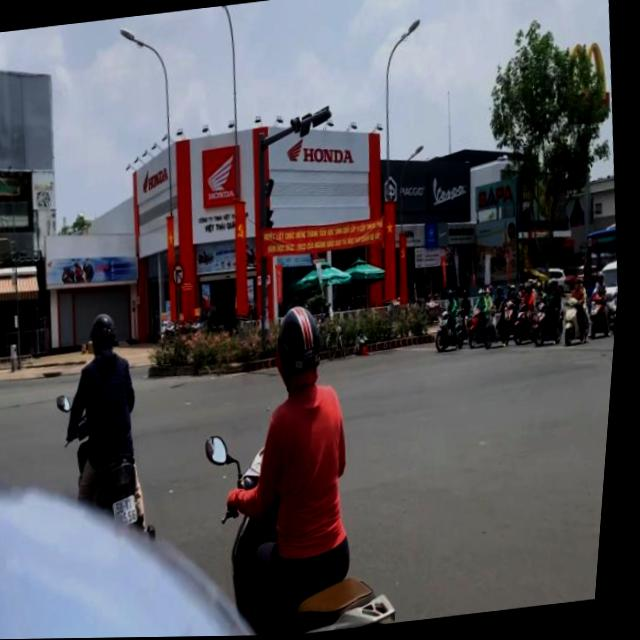Cam re phai: (175, 263, 190, 287)
